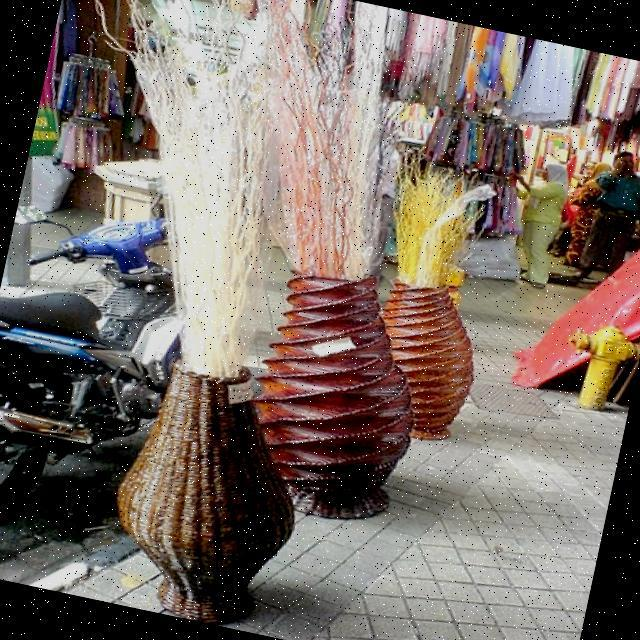fire_hydrant: (554, 315, 640, 417)
